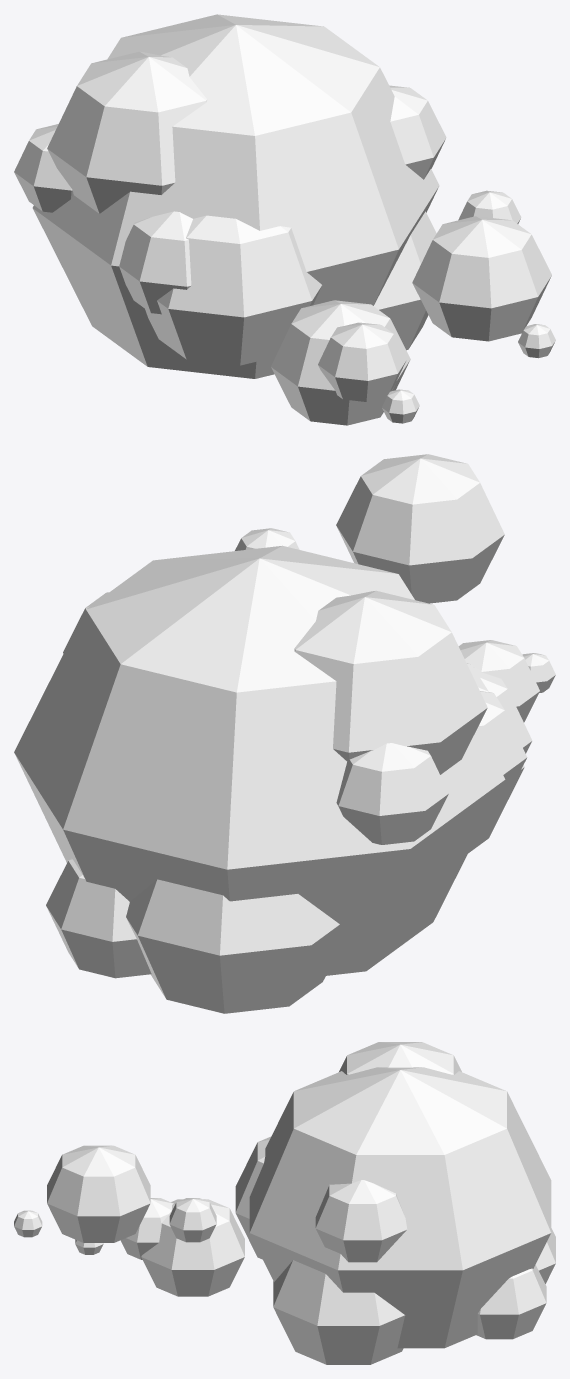
Rendered from Enemy_Projectile.fbx.
The picture shows the model from 3 angles, top to bottom: view 1: azimuth 30°, elevation 25°; view 2: azimuth 150°, elevation 25°; view 3: azimuth 270°, elevation 25°; orthographic projection. The views are drawn at different scales.
Visible parts, largest first — view 1: sphere, sphere_2, sphere_1, sphere_11, sphere_10, sphere_7, sphere_14, sphere_6, sphere_3, sphere_8, sphere_9, sphere_13 (+1 smaller); view 2: sphere, sphere_1, sphere_5, sphere_11, sphere_8, sphere_4, sphere_14, sphere_7, sphere_10, sphere_9, sphere_2, sphere_13; view 3: sphere, sphere_6, sphere_11, sphere_10, sphere_3, sphere_4, sphere_1, sphere_9, sphere_2, sphere_14, sphere_12, sphere_5.
Part boxes in pixels (x1,y1,x2,y2): sphere: (32,14,439,378); sphere_2: (145,215,321,365); sphere_1: (47,51,207,213); sphere_11: (412,216,551,341); sphere_10: (271,300,410,425); sphere_7: (119,211,192,314); sphere_14: (318,322,406,401); sphere_6: (374,211,436,350); sphere_3: (389,85,446,179); sphere_8: (14,124,73,212); sphere_9: (458,190,521,223); sphere_13: (382,389,419,423); sphere: (14,545,505,976); sphere_1: (294,590,487,774); sphere_5: (126,879,339,1013); sphere_11: (336,454,504,603); sphere_8: (336,743,448,844); sphere_4: (46,858,151,978); sphere_14: (458,640,539,722); sphere_7: (479,691,527,813); sphere_10: (473,667,532,753); sphere_9: (235,528,299,550); sphere_2: (467,663,524,853); sphere_13: (522,653,555,692); sphere: (249,1067,551,1348); sphere_6: (273,1260,404,1364); sphere_11: (47,1145,150,1242); sphere_10: (141,1199,244,1296); sphere_3: (315,1180,407,1262); sphere_4: (476,1265,546,1339); sphere_1: (339,1042,461,1074); sphere_9: (169,1198,216,1242); sphere_2: (235,1136,271,1259); sphere_14: (120,1198,173,1259); sphere_12: (14,1210,42,1237); sphere_5: (535,1228,555,1283).
Bounding box in the file's own units: 108 × 100 × 180.
1 material, 1 textured.
